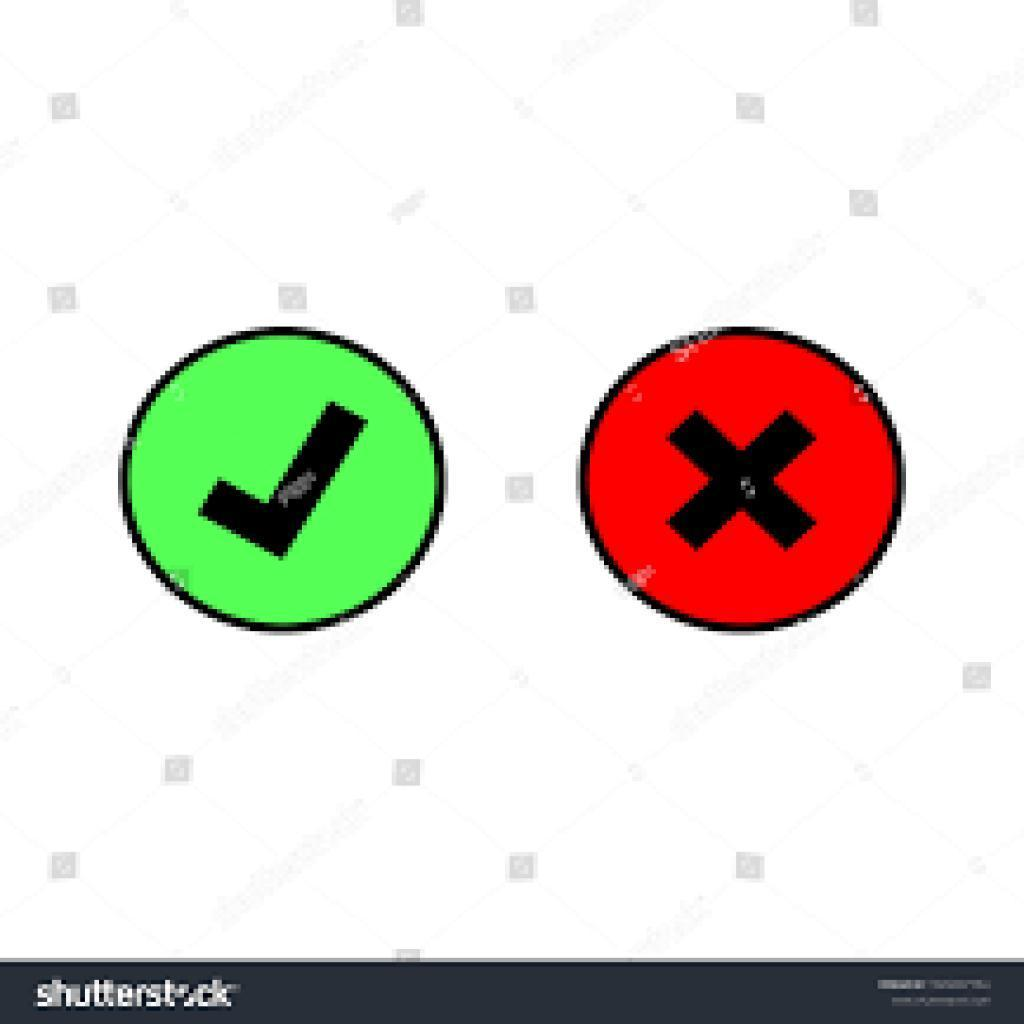checkbox: (577, 331, 907, 643), (117, 327, 448, 635)
